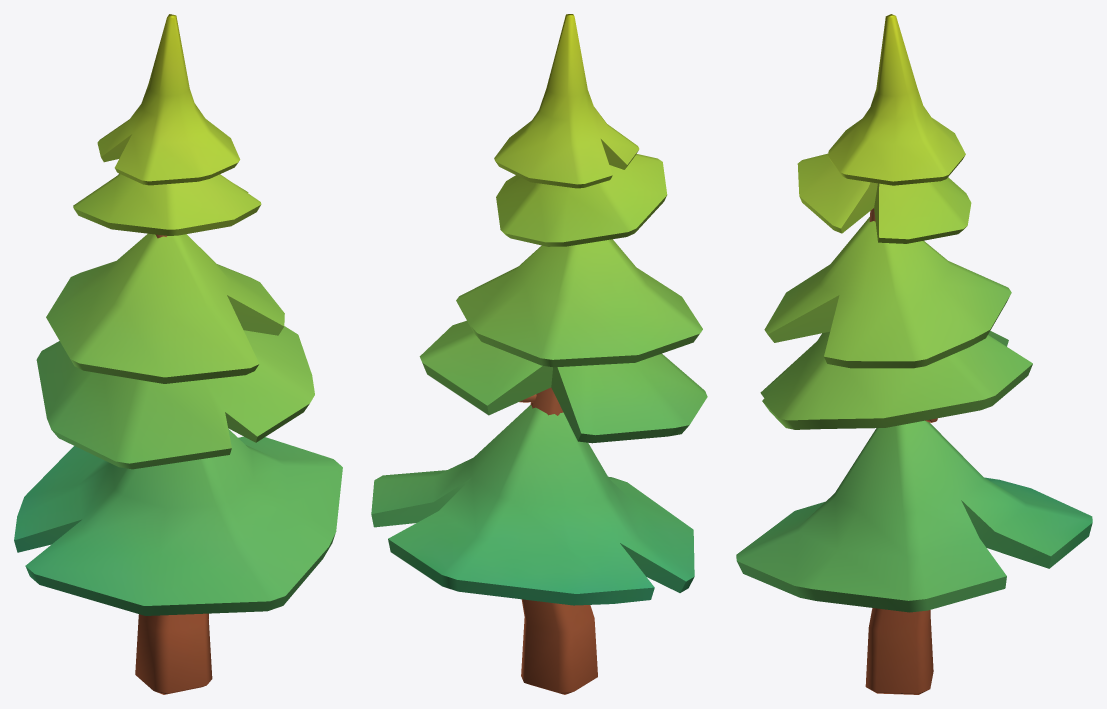
The model's file is PineTree.fbx.
The picture shows the model from 3 angles, left to right: view 1: azimuth 30°, elevation 25°; view 2: azimuth 150°, elevation 25°; view 3: azimuth 270°, elevation 25°; orthographic projection.
Parts seen in each view (by area): view 1: PineTree; view 2: PineTree; view 3: PineTree.
Boxes of the visible parts, bbox=[...] form: PineTree: bbox=[14, 14, 342, 694]; PineTree: bbox=[371, 14, 707, 694]; PineTree: bbox=[736, 14, 1092, 694].
Bounding box in the file's own units: 528 × 1086 × 526.
